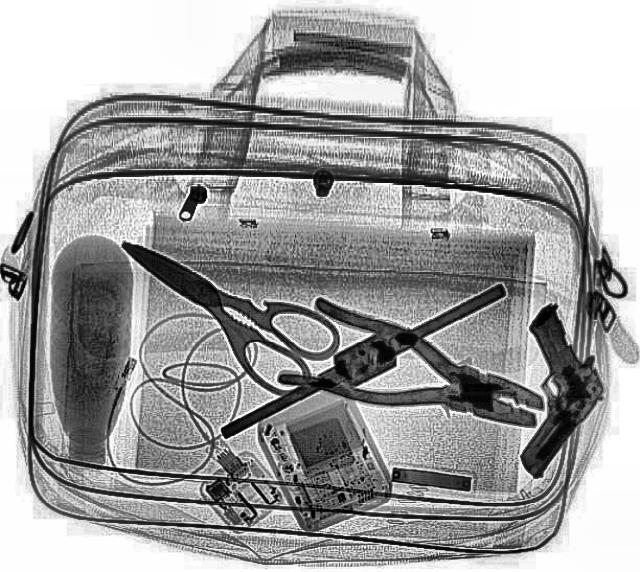Gun: (442, 311, 634, 478)
Pliers: (272, 292, 560, 454)
Scissors: (88, 207, 352, 401)
